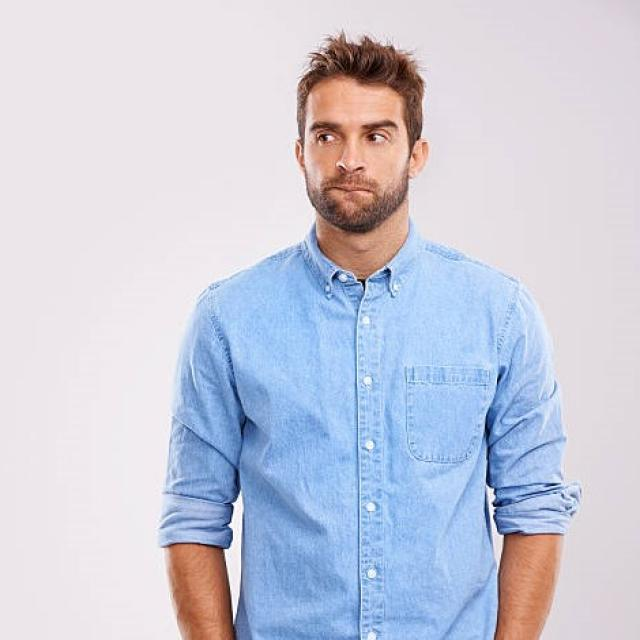Nonhelmet: (282, 35, 432, 236)
